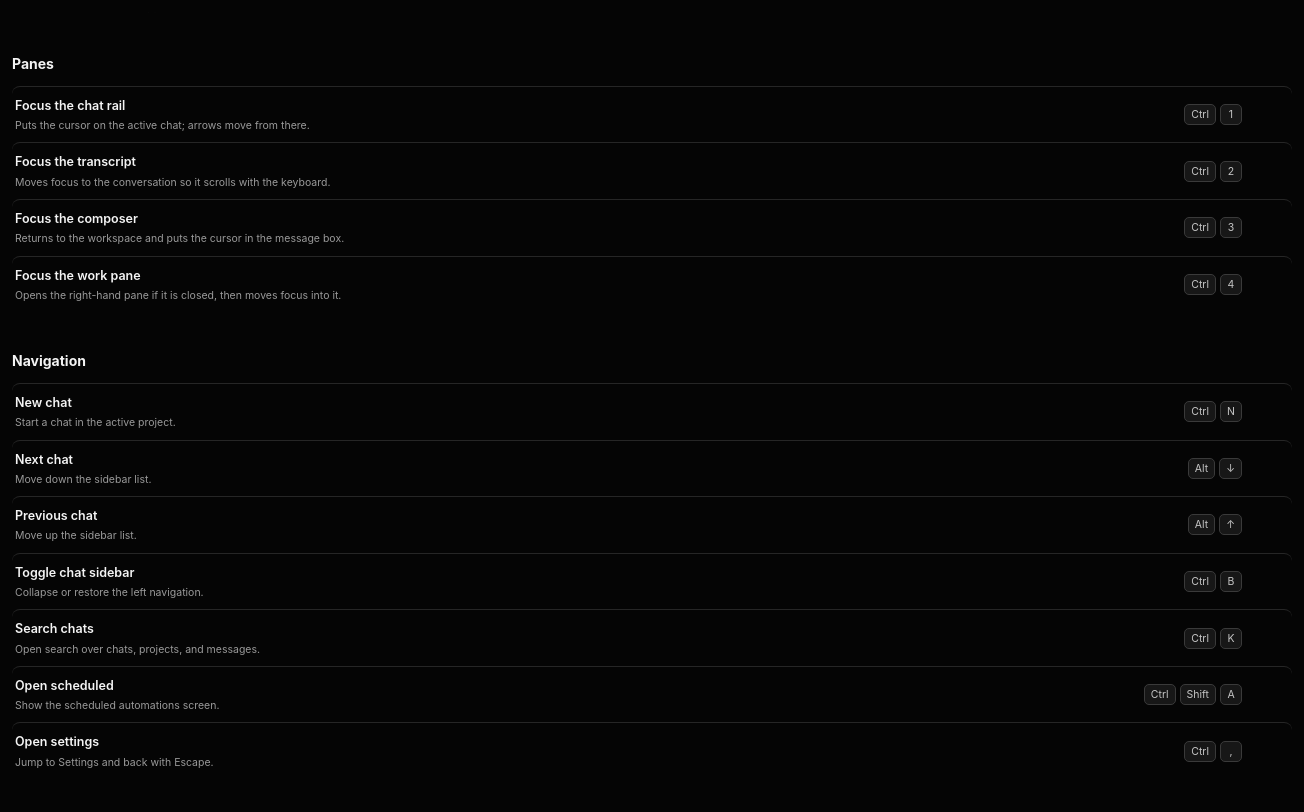
Test: KeybindingsSettings › names the other command when two bindings collide
(page scrolled)
Click the button with aria-label "Change the shortcut": coordinates (1193, 582) [1134,566,1252,597]
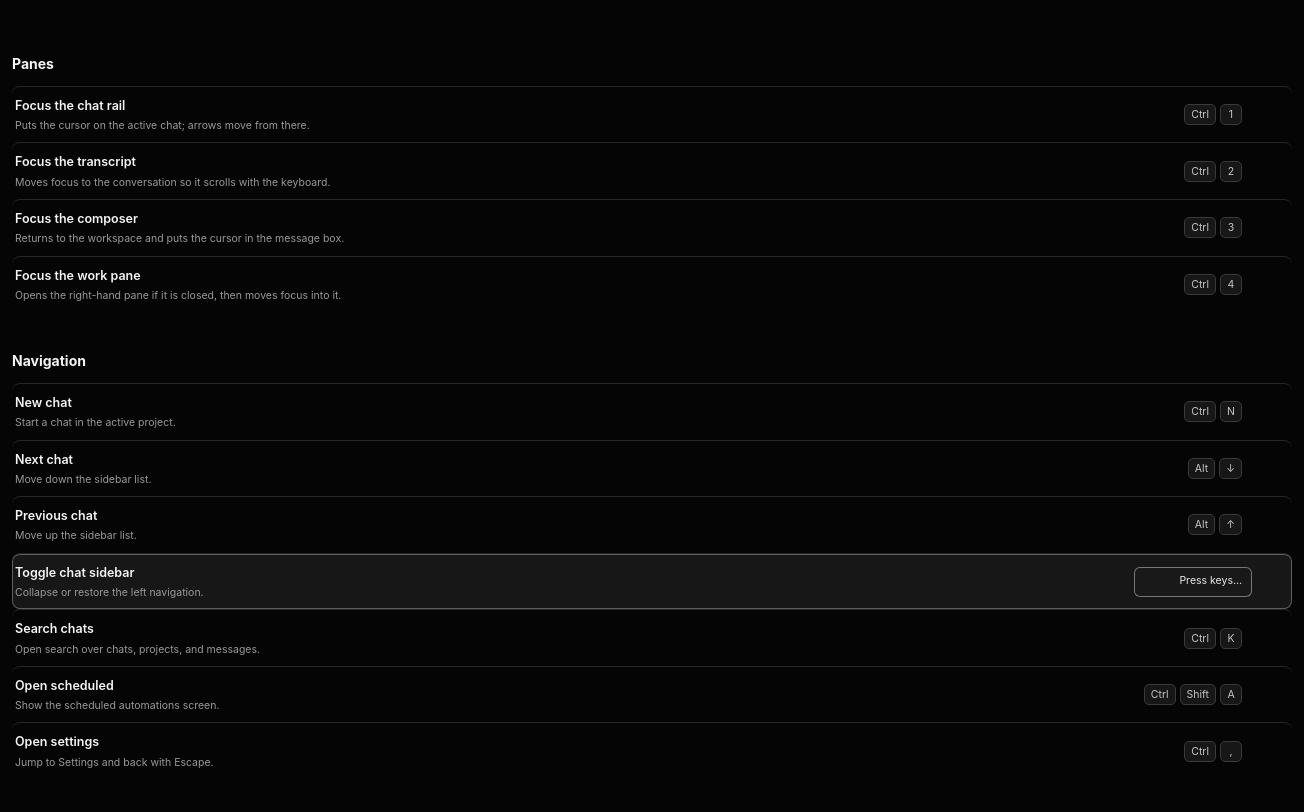
Press N
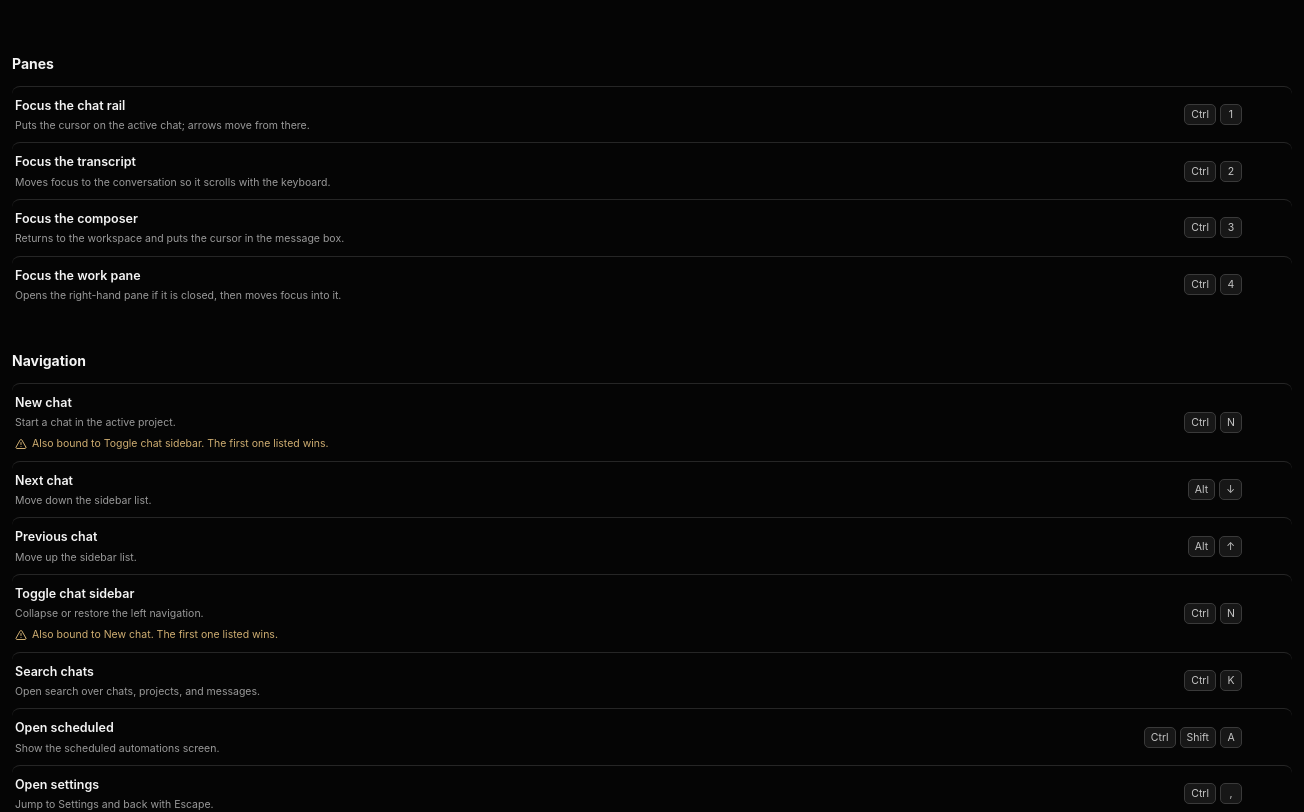
Expected: the text "Also bound to Toggle chat sidebar" is shown, [15,436,329,450]
Expected: the text "Also bound to New chat. The first one listed wins." is shown, [15,628,278,641]
